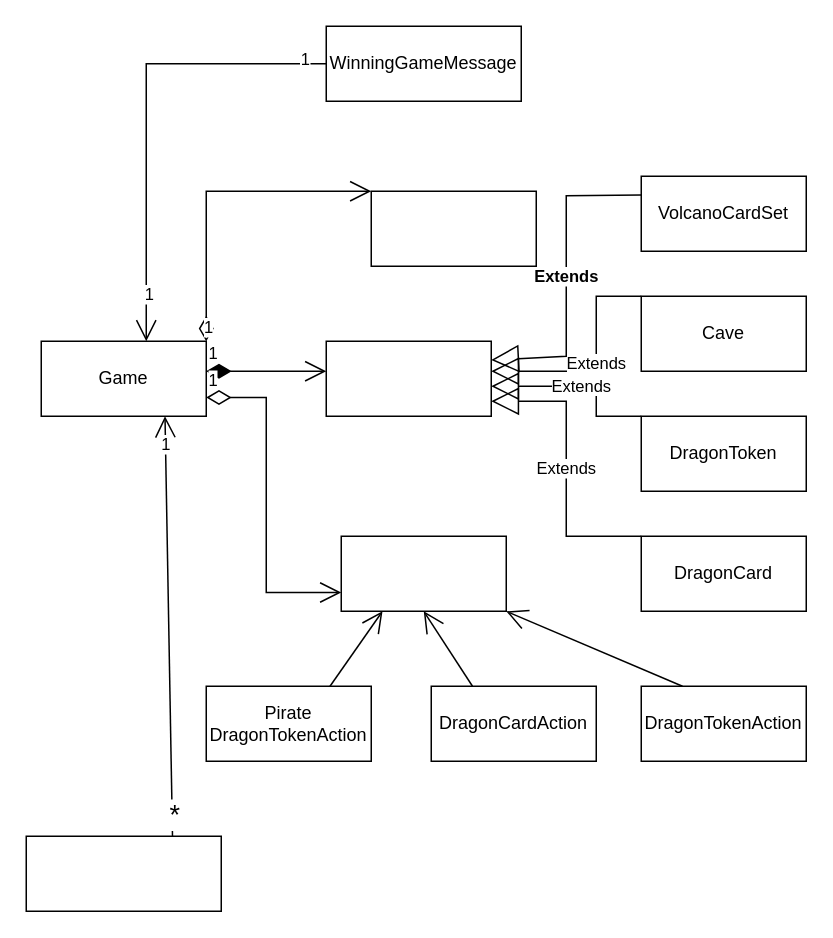
This 833x938 diagram has some shape labels left out. The centre of each missing label's shape, as x and y in pixels:
"<<Interface>> Action" belongs at (423,573).
"Board" belongs at (408,378).
"BotPlayers" belongs at (453,228).
"Music" belongs at (123,873).
